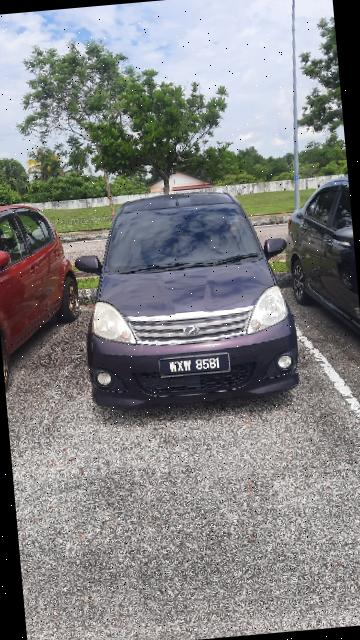License_Plate: (153, 344, 240, 384)
car: (62, 182, 319, 426)
